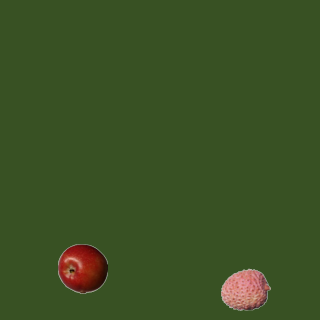Apple Braeburn: (57, 243, 107, 293)
Lychee: (220, 264, 270, 314)
